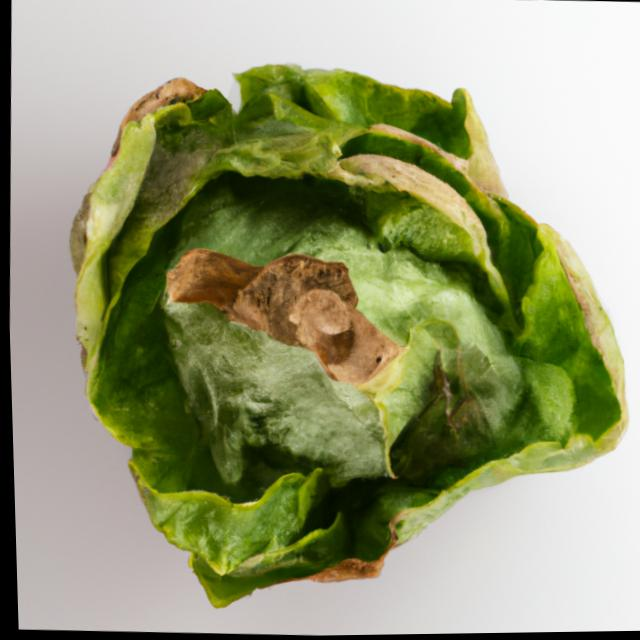-K: (37, 35, 640, 639)
